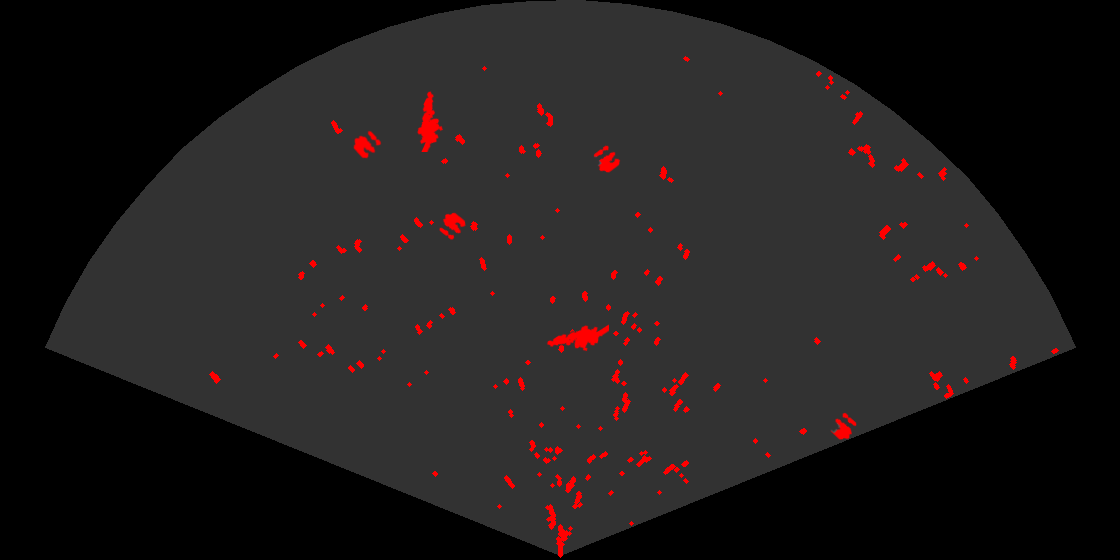ball: (352, 129, 383, 160), (438, 211, 468, 241), (592, 144, 622, 174), (829, 411, 858, 441)
frogman: (545, 323, 609, 353), (416, 89, 445, 152)
